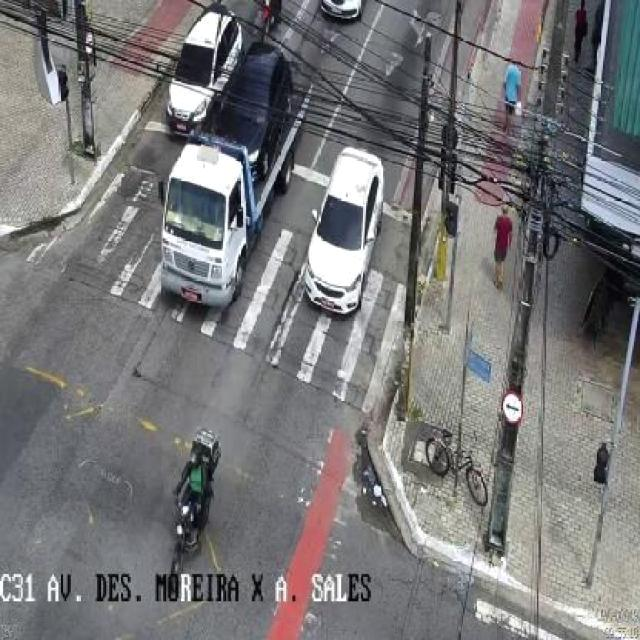Car: (294, 130, 408, 326)
Cycle: (151, 416, 231, 574), (242, 0, 292, 29)
Truck: (139, 53, 307, 310)
Van: (160, 15, 242, 123)
